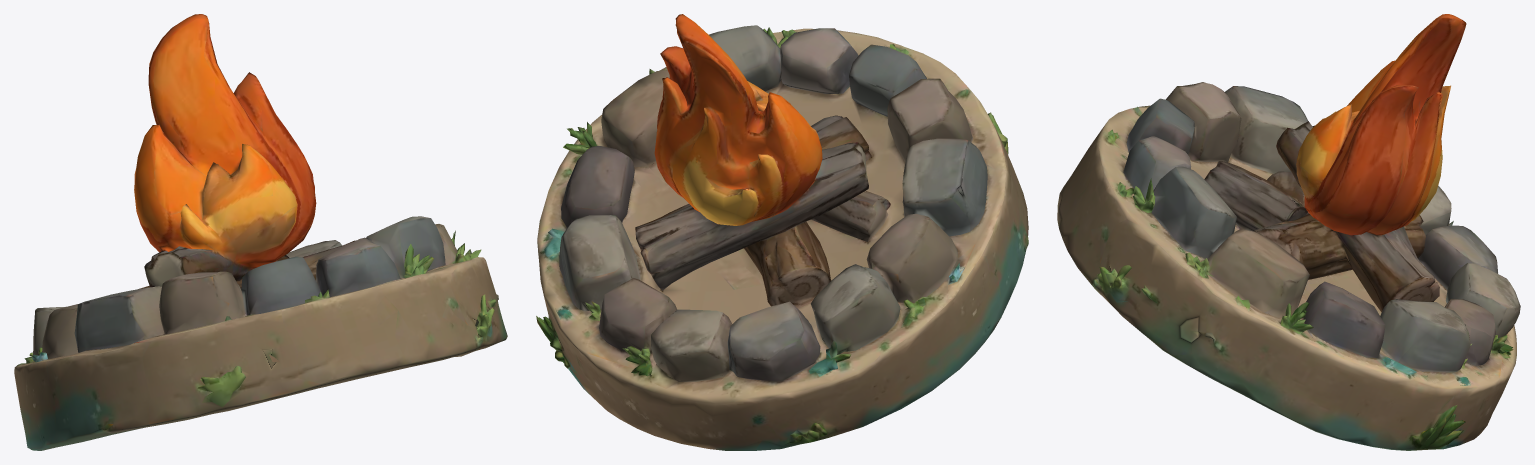
The model's file is sw-fire.glb.
The picture shows the model from 3 angles, left to right: view 1: azimuth 30°, elevation 25°; view 2: azimuth 150°, elevation 25°; view 3: azimuth 270°, elevation 25°; orthographic projection.
Visible parts, largest first — view 1: geometry_0; view 2: geometry_0; view 3: geometry_0.
Boxes of the visible parts, x1=… form: geometry_0: x1=14, y1=14, x2=507, y2=450; geometry_0: x1=536, y1=14, x2=1028, y2=450; geometry_0: x1=1057, y1=14, x2=1520, y2=450.
Size of the model in its own units: 0.8906 by 0.8079 by 0.846.
1 material, 1 textured.
